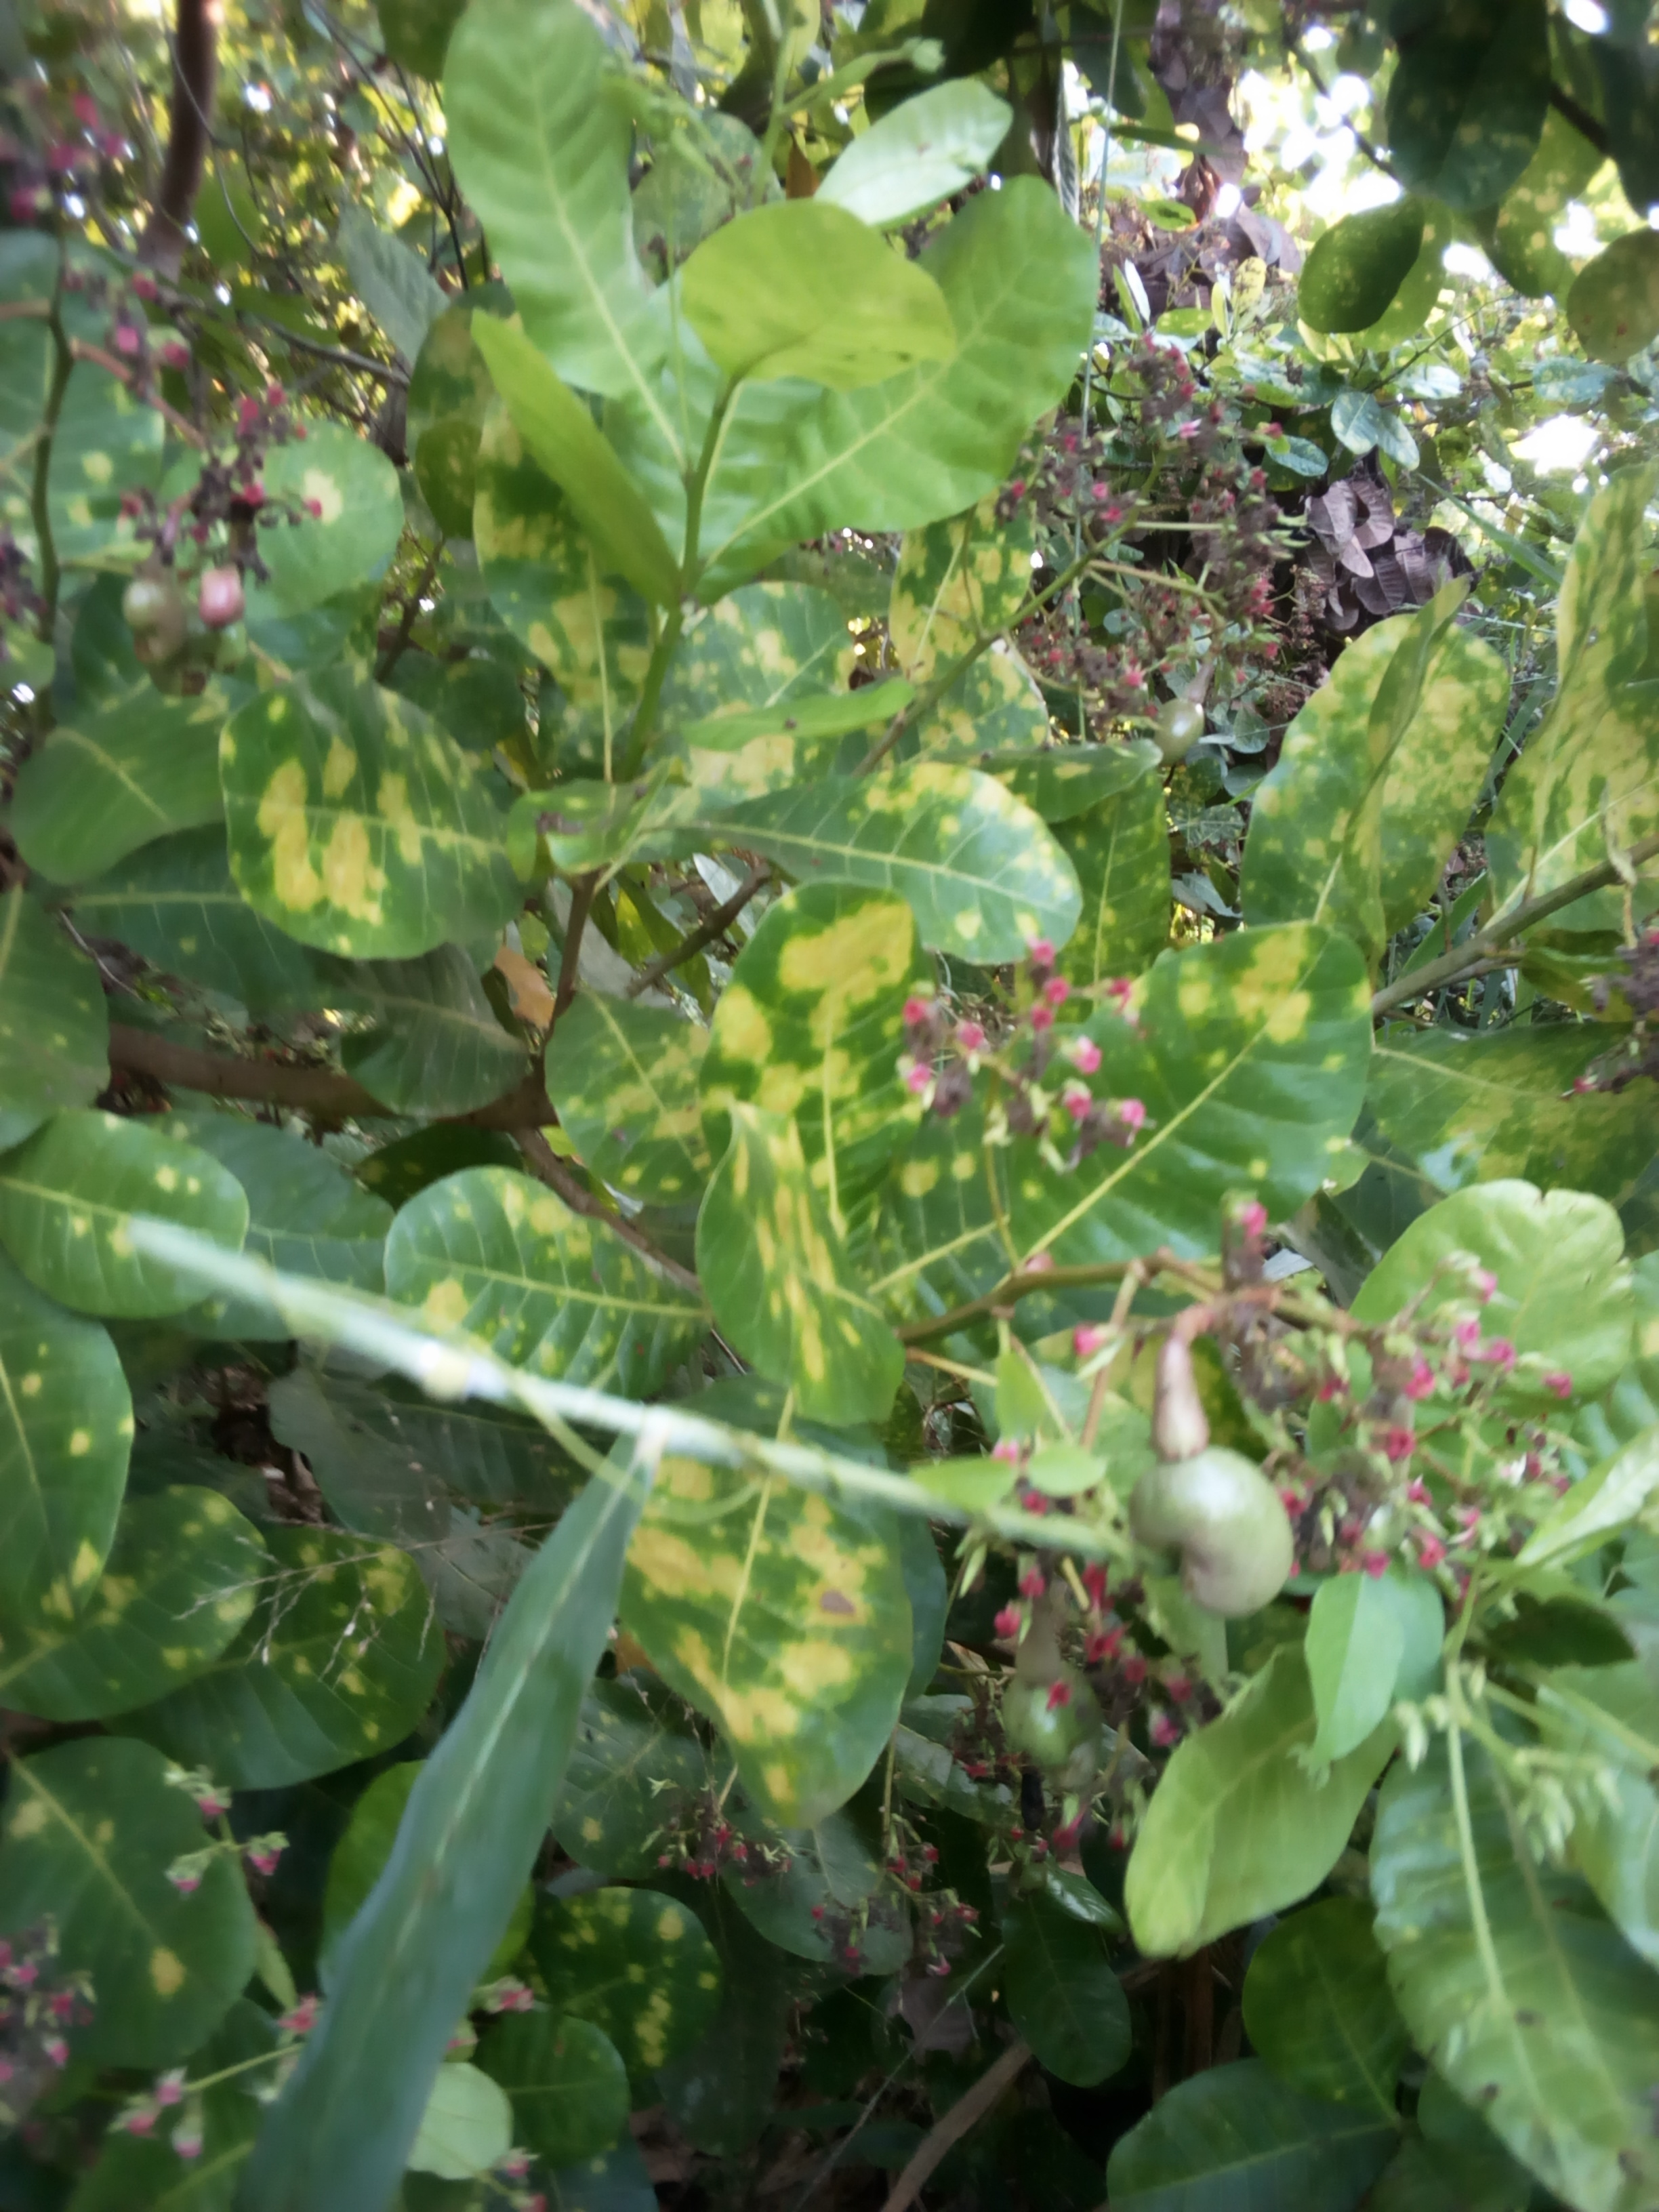Carence minérale: (572, 1374, 979, 1851), (1030, 902, 1425, 1317), (195, 632, 568, 984), (1236, 578, 1530, 1012), (0, 1743, 335, 2078), (704, 883, 1002, 1211), (439, 394, 721, 716), (366, 1150, 708, 1411), (199, 1522, 477, 1763), (676, 568, 958, 784), (0, 1310, 153, 1629), (870, 503, 1117, 679)
